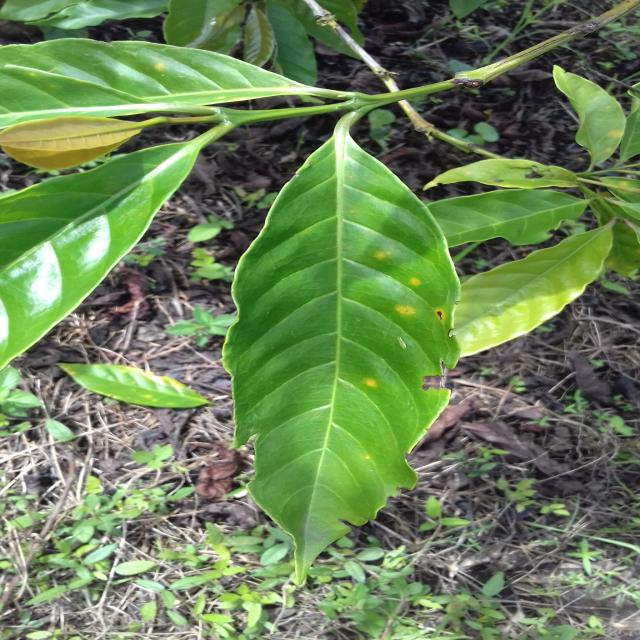Enfermedad-Roya: (221, 134, 466, 588)
